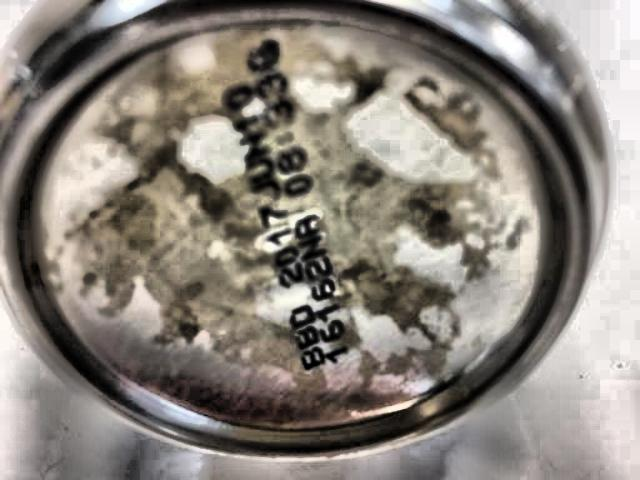Bottles: (0, 0, 613, 469)
